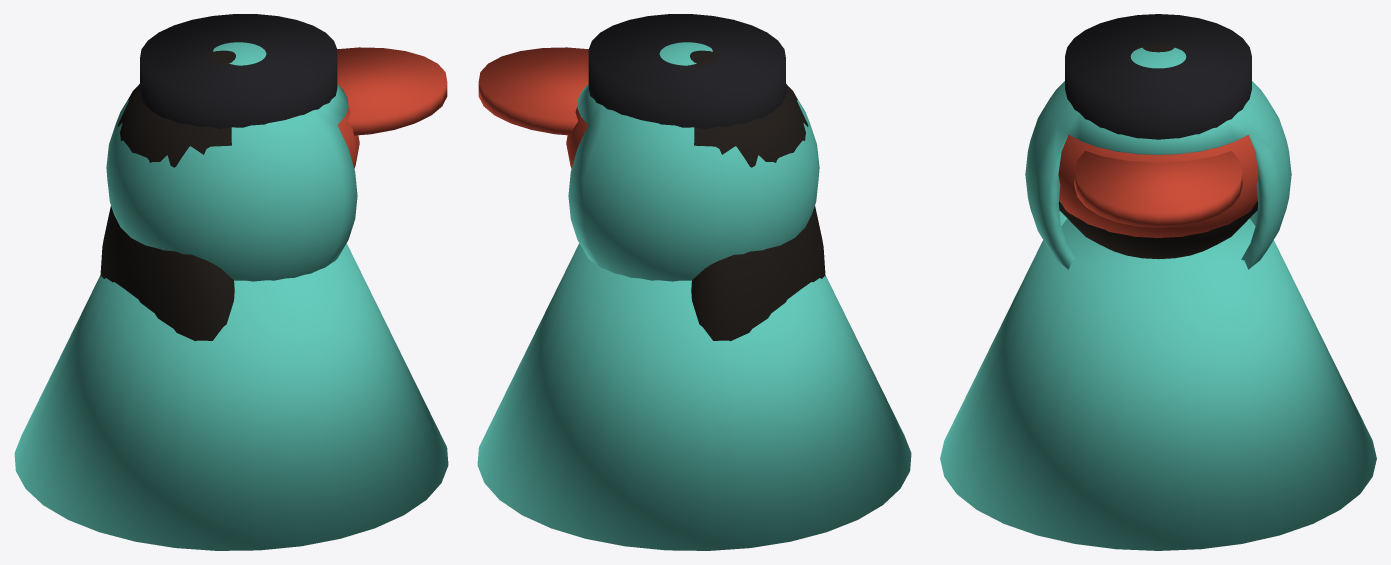
The model's file is aksesori.glb.
3 views of the same model, side by side, from view 1: azimuth 30°, elevation 25°; view 2: azimuth 150°, elevation 25°; view 3: azimuth 270°, elevation 25° (orthographic).
Visible parts, largest first — view 1: KerudungJuntai, Kerudung, Peci, RambutPanjangAtas, Topi, RambutPendek; view 2: KerudungJuntai, Kerudung, Peci, RambutPanjangAtas, Topi, RambutPendek; view 3: KerudungJuntai, Peci, Topi, Kerudung, RambutPanjangAtas.
Boxes of the visible parts, bbox=[...] form: KerudungJuntai: bbox=[14, 243, 448, 550]; Kerudung: bbox=[106, 42, 357, 281]; Peci: bbox=[140, 14, 337, 128]; RambutPanjangAtas: bbox=[100, 48, 237, 341]; Topi: bbox=[337, 47, 447, 168]; RambutPendek: bbox=[117, 98, 181, 167]; KerudungJuntai: bbox=[477, 243, 911, 550]; Kerudung: bbox=[568, 42, 819, 281]; Peci: bbox=[588, 14, 785, 128]; RambutPanjangAtas: bbox=[688, 48, 825, 341]; Topi: bbox=[478, 47, 588, 168]; RambutPendek: bbox=[744, 98, 808, 167]; KerudungJuntai: bbox=[940, 218, 1376, 550]; Peci: bbox=[1065, 14, 1251, 139]; Topi: bbox=[1058, 135, 1258, 237]; Kerudung: bbox=[1025, 47, 1291, 269]; RambutPanjangAtas: bbox=[1058, 42, 1258, 259].
Bounding box in the file's own units: 0.44 × 0.433 × 0.42.
